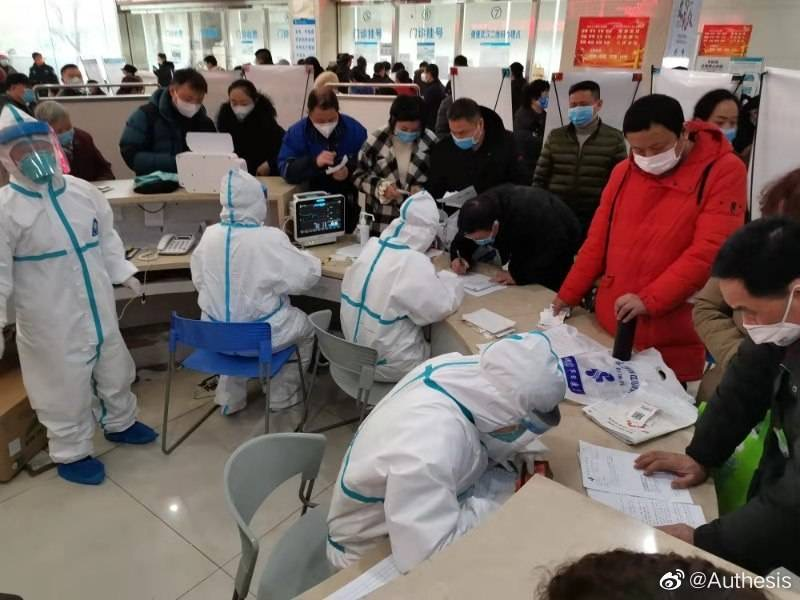rightmask: (620, 94, 693, 186), (1, 98, 69, 194), (447, 97, 490, 153), (568, 81, 605, 137), (388, 94, 424, 149), (166, 72, 208, 118), (305, 89, 337, 140), (225, 78, 257, 124)
